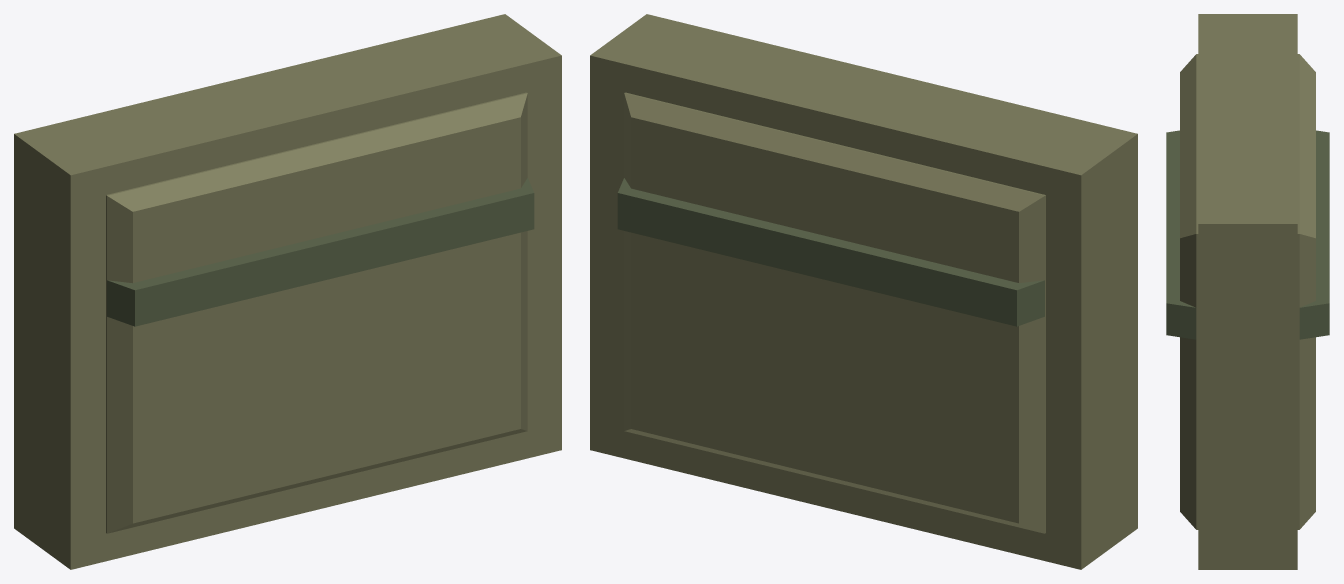
The model's file is megablock.fbx.
3 views of the same model, side by side, from view 1: azimuth 30°, elevation 25°; view 2: azimuth 150°, elevation 25°; view 3: azimuth 270°, elevation 25° (orthographic). The views are drawn at different scales.
Visible parts, largest first — view 1: megablock_main, megablock_decor; view 2: megablock_main, megablock_decor; view 3: megablock_main, megablock_decor.
Boxes of the visible parts, <box> form: megablock_main: <box>14,14,561,569</box>; megablock_decor: <box>107,178,534,326</box>; megablock_main: <box>590,14,1137,569</box>; megablock_decor: <box>617,178,1044,326</box>; megablock_main: <box>1180,14,1315,569</box>; megablock_decor: <box>1166,130,1329,339</box>.
Size of the model in its own units: 5 by 3.84 by 1.65.
